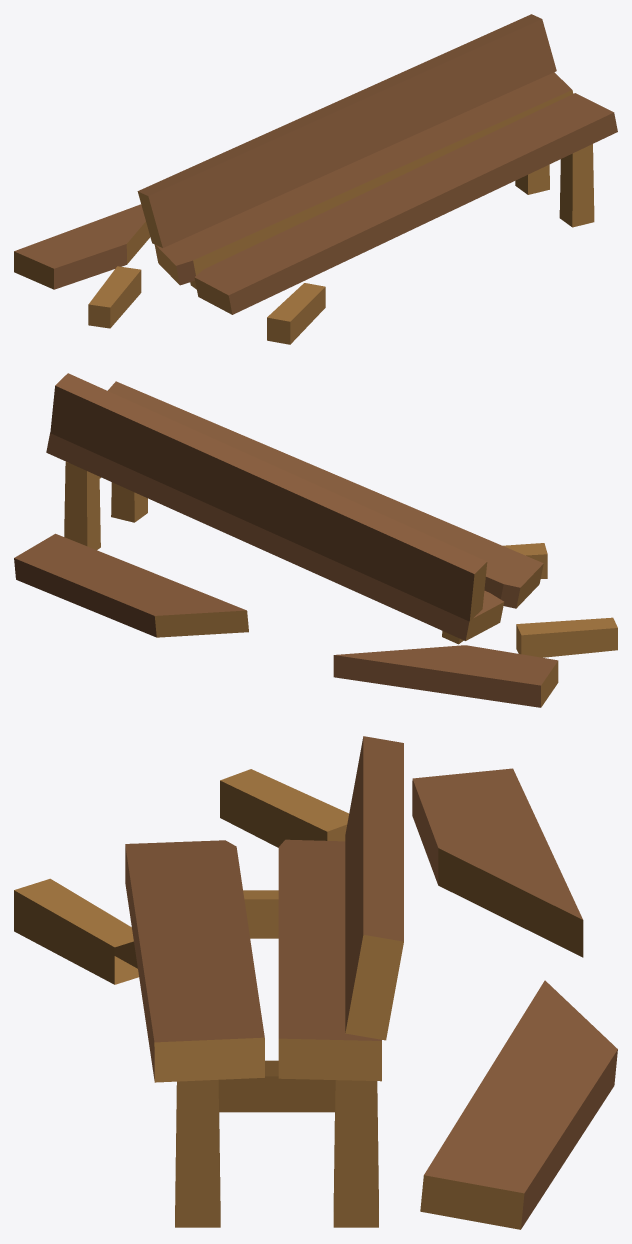
The model's file is fantasy_bench-broken-wood.fbx.
The picture shows the model from 3 angles, top to bottom: view 1: azimuth 30°, elevation 25°; view 2: azimuth 150°, elevation 25°; view 3: azimuth 270°, elevation 25°; orthographic projection. The views are drawn at different scales.
Parts seen in each view (by area): view 1: fantasy_bench_broken_wood; view 2: fantasy_bench_broken_wood; view 3: fantasy_bench_broken_wood.
Boxes of the visible parts, bbox=[...] form: fantasy_bench_broken_wood: bbox=[14, 14, 617, 344]; fantasy_bench_broken_wood: bbox=[14, 373, 617, 707]; fantasy_bench_broken_wood: bbox=[14, 736, 617, 1229].
Size of the model in its own units: 200 by 65.64 by 116.
